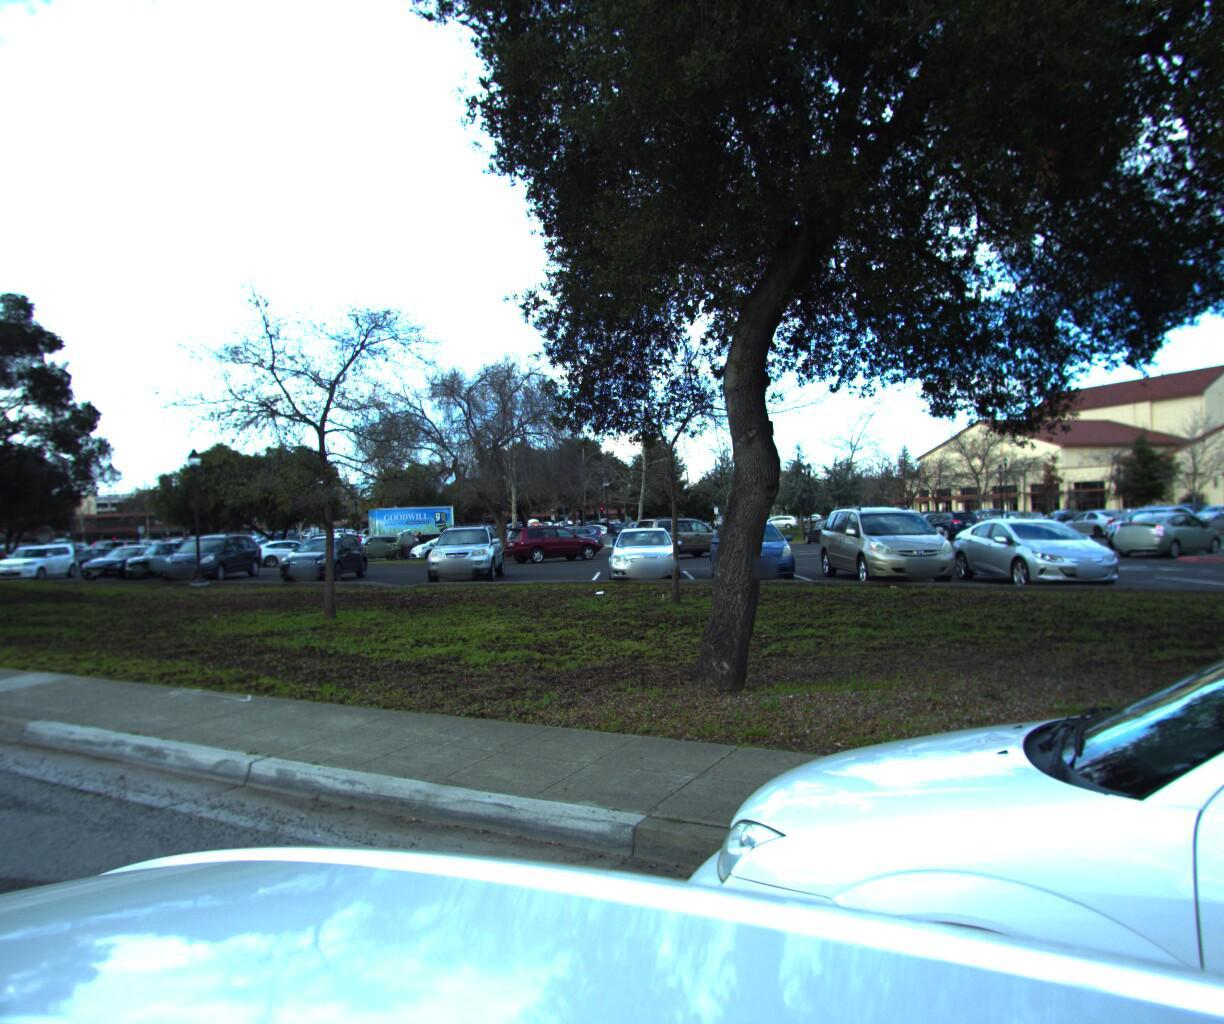car: (563, 527, 1224, 1024)
